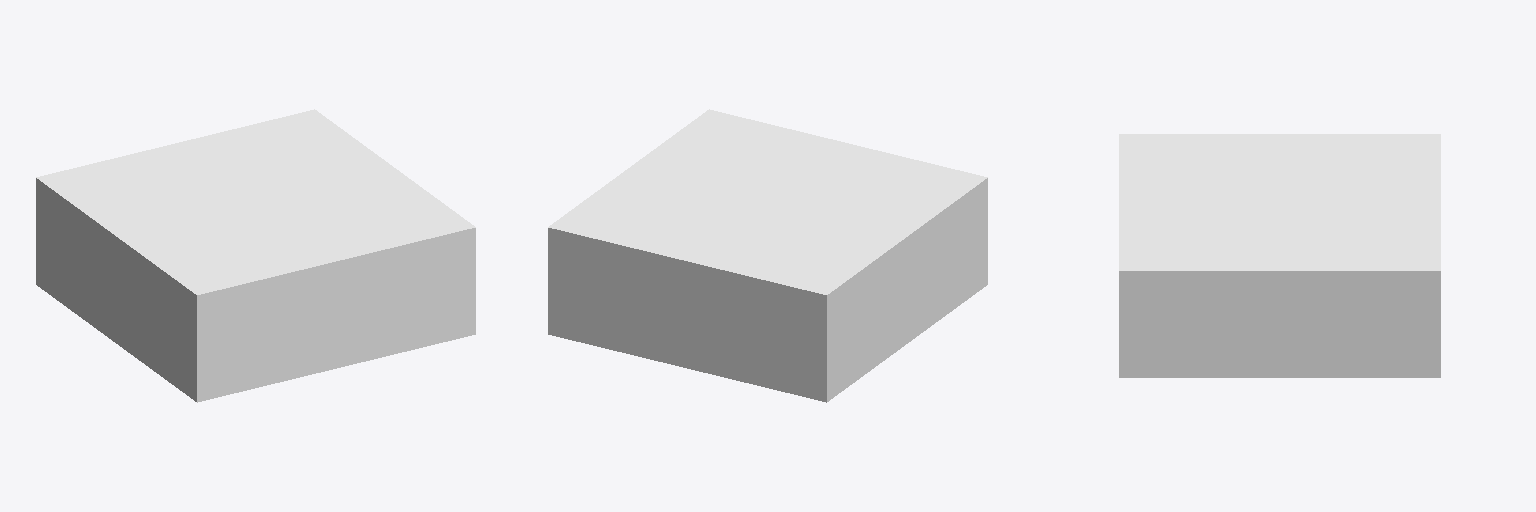
File: FarmMap.obj
The picture shows the model from 3 angles: view 1: azimuth 30°, elevation 25°; view 2: azimuth 150°, elevation 25°; view 3: azimuth 270°, elevation 25°; orthographic projection.
Visible parts, largest first — view 1: FarmMap; view 2: FarmMap; view 3: FarmMap.
Boxes of the visible parts, box(x1,y1,x2,y2) form: FarmMap: box(36, 109, 475, 402); FarmMap: box(548, 109, 987, 402); FarmMap: box(1119, 134, 1440, 377).
Bounding box in the file's own units: 30 × 11 × 30.